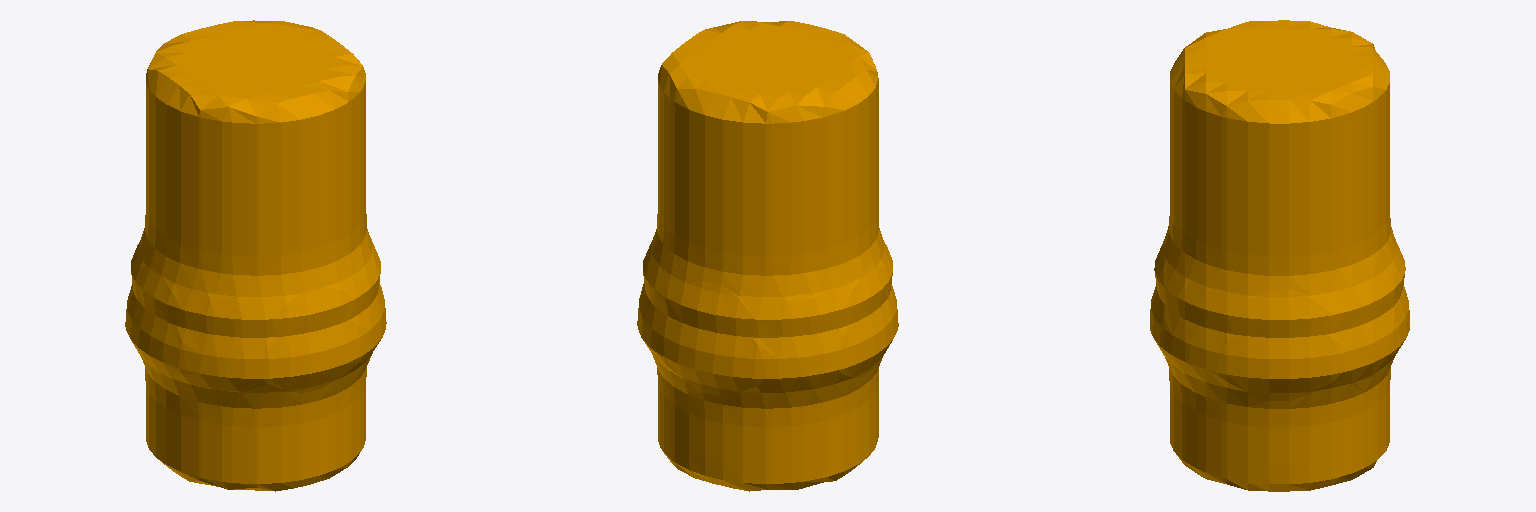
URDF robot description (cylinder_../../meshes/cylinders/cylinder_16.stl):
<?xml version="1.0" encoding="utf-8"?>  <robot name="cylinder_../../meshes/cylinders/cylinder_16.stl">   <link name="cylinder_../../meshes/cylinders/cylinder_16.stl">     <visual>       <geometry>         <mesh filename="../meshes/cylinders/cylinder_16.stl" scale="1 1 1"/>       </geometry>     </visual>     <collision>       <geometry>         <mesh filename="../meshes/cylinders/cylinder_16.stl" scale="1 1 1"/>       </geometry>     </collision>     <inertial>        <origin         xyz="0 0 0"         rpy="0 0 0" />       <mass value="0.2396647502346695"/>       <origin rpy="0 0 0" xyz="0 0 0"/>       <inertia ixx="0.0002414023088415077" ixy="-1.0864018668451472e-08" ixz="-6.6642791112002445e-09" iyy="0.00024140233433234235" iyz="-5.719350745699972e-09" izz="9.020347039414953e-05"/>     </inertial>   </link>  </robot>

--- Render facts (derived) ---
3 views of the same robot in one strip: view 1: azimuth 30°, elevation 25°; view 2: azimuth 150°, elevation 25°; view 3: azimuth 270°, elevation 25° (orthographic).
Robot: cylinder_../../meshes/cylinders/cylinder_16.stl — 1 links, 0 joints (none); root link cylinder_../../meshes/cylinders/cylinder_16.stl; default pose: all joints at 0.
Links seen in each view (by area): view 1: cylinder_../../meshes/cylinders/cylinder_16.stl; view 2: cylinder_../../meshes/cylinders/cylinder_16.stl; view 3: cylinder_../../meshes/cylinders/cylinder_16.stl.
Link boxes in pixels (box(x1,y1,x2,y2)): cylinder_../../meshes/cylinders/cylinder_16.stl: box(125, 20, 386, 491); cylinder_../../meshes/cylinders/cylinder_16.stl: box(637, 21, 898, 491); cylinder_../../meshes/cylinders/cylinder_16.stl: box(1150, 20, 1409, 491).
Bounding box of the posed robot: 0.0622 × 0.0622 × 0.1031 m (x, y, z).
1 mesh visuals loaded from 1 distinct referenced files (1 binary STL).